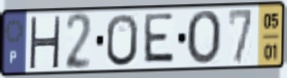2: (63, 9, 93, 74)
7: (227, 6, 254, 67)
E: (141, 11, 177, 66)
H: (27, 15, 62, 70)
O: (185, 9, 223, 67), (105, 12, 140, 68)
